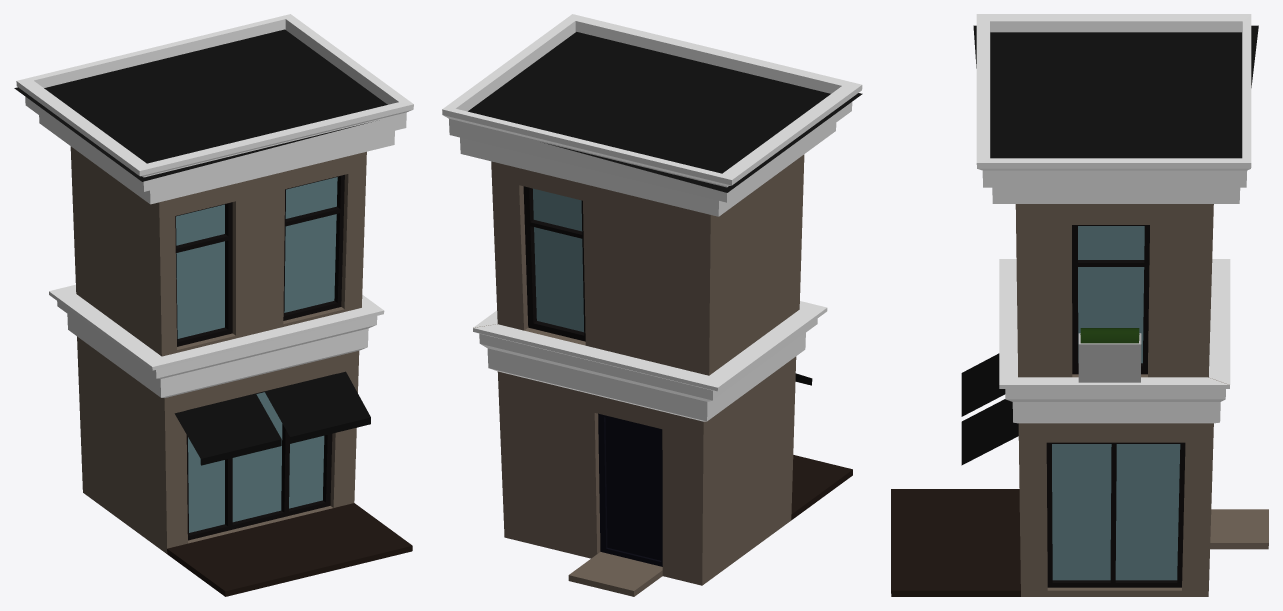
Rendered from BuildingResident3.fbx.
The picture shows the model from 3 angles, left to right: view 1: azimuth 30°, elevation 25°; view 2: azimuth 150°, elevation 25°; view 3: azimuth 270°, elevation 25°; orthographic projection. The views are drawn at different scales.
Parts seen in each view (by area): view 1: BuildingResident3; view 2: BuildingResident3; view 3: BuildingResident3.
Boxes of the visible parts, bbox=[...] form: BuildingResident3: bbox=[14, 14, 413, 596]; BuildingResident3: bbox=[442, 14, 862, 596]; BuildingResident3: bbox=[891, 14, 1268, 596].
Size of the model in its own units: 11.21 by 15.99 by 12.02.
